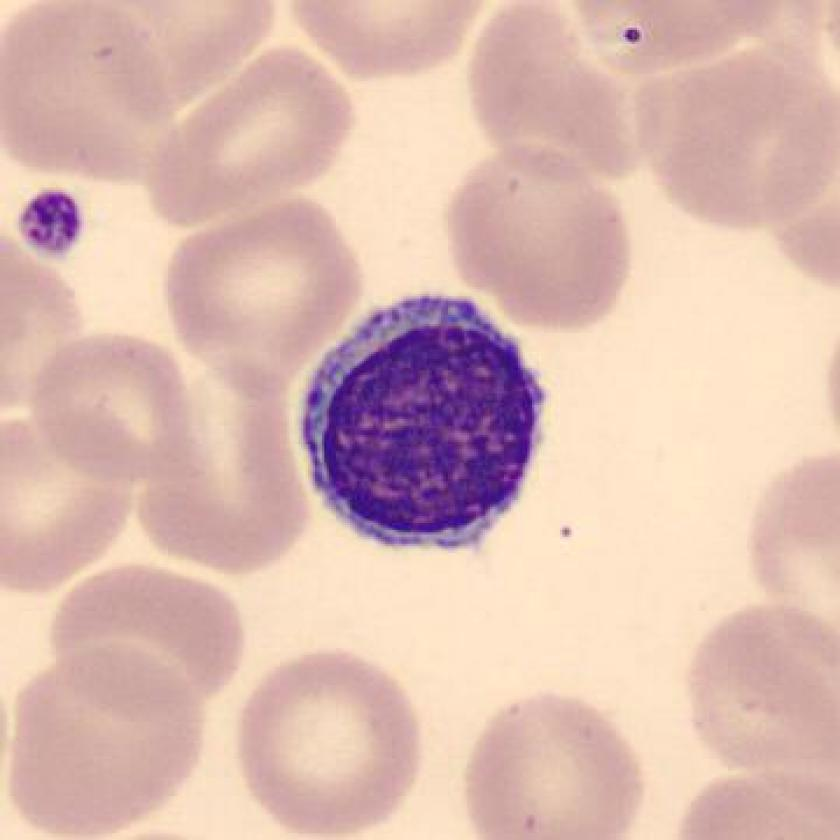lymphocyte: (291, 283, 564, 575)
platelets: (15, 185, 90, 263)
